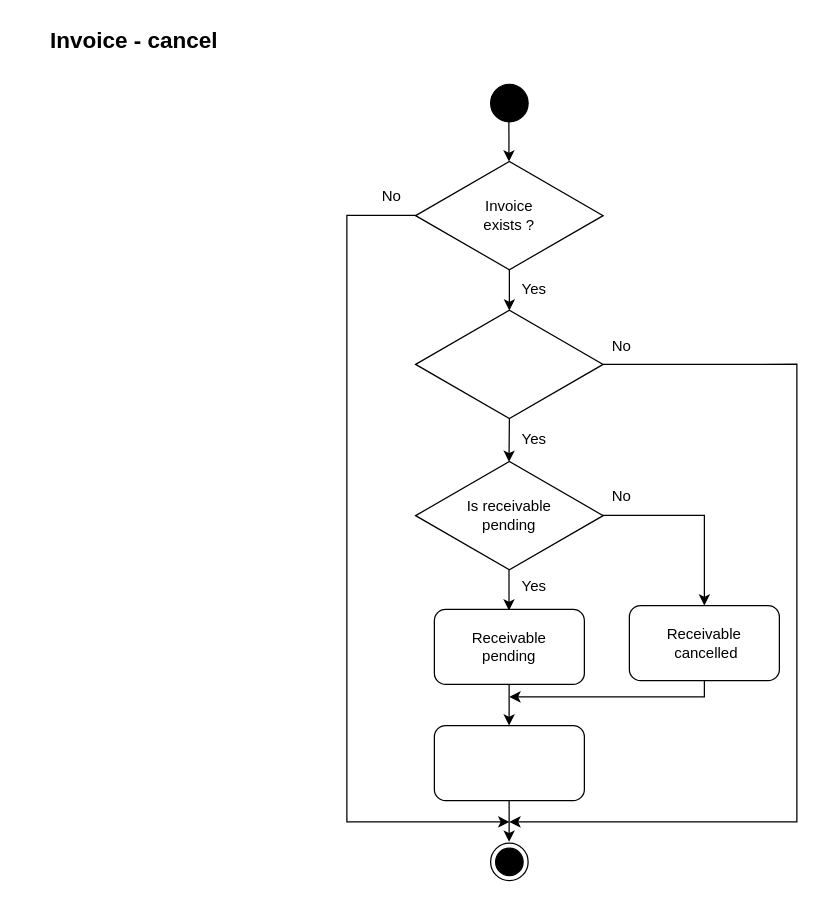
This 829x903 diagram has some shape labels left out. The box of each missing label's shape, as (x1, y1, x2, y2) in pixels:
Invoice cancelled: (433, 724, 584, 801)
Receivable exists and status is invoiced ?: (414, 307, 603, 421)
